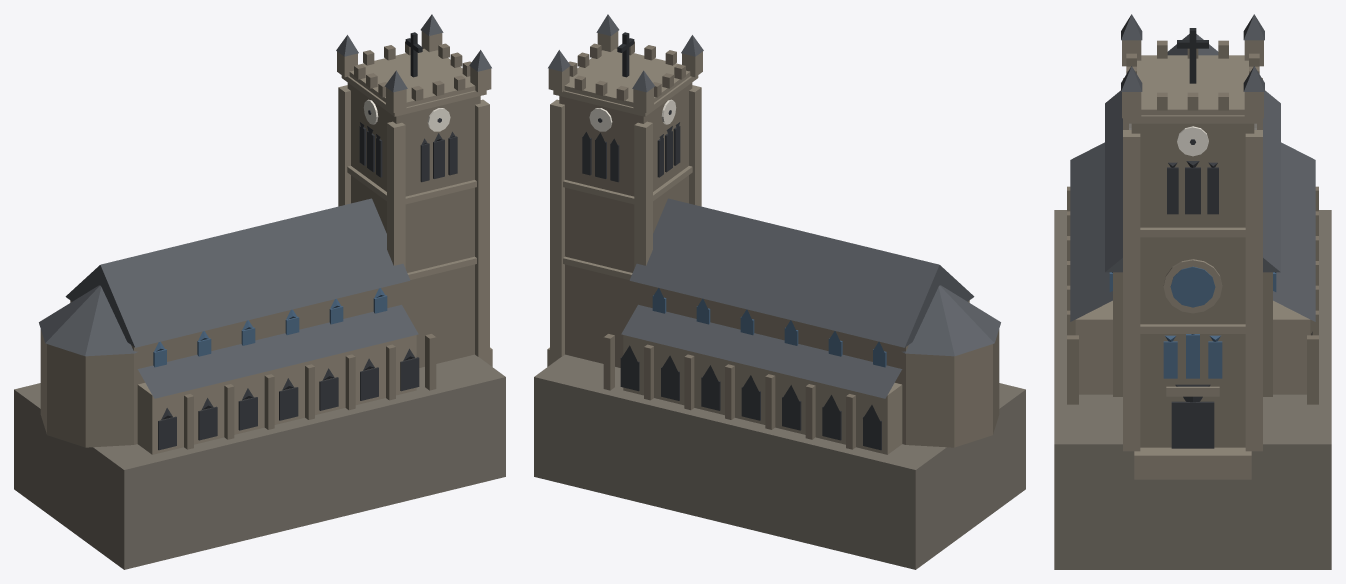
The model's file is cathedral.glb.
The picture shows the model from 3 angles, left to right: view 1: azimuth 30°, elevation 25°; view 2: azimuth 150°, elevation 25°; view 3: azimuth 270°, elevation 25°; orthographic projection. The views are drawn at different scales.
Visible parts, largest first — view 1: cathedral; view 2: cathedral; view 3: cathedral.
Boxes of the visible parts, x1=… form: cathedral: x1=14, y1=14, x2=505, y2=569; cathedral: x1=534, y1=14, x2=1025, y2=569; cathedral: x1=1054, y1=14, x2=1331, y2=569.
Size of the model in its own units: 11.55 by 10.72 by 5.2.
